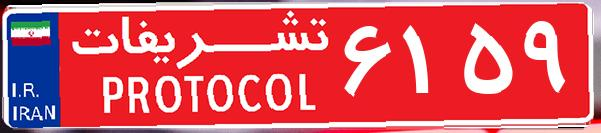1: (400, 20, 460, 115)
5: (460, 20, 520, 115)
6: (340, 20, 400, 115)
9: (520, 20, 580, 115)
تشریفات: (60, 8, 340, 125)
